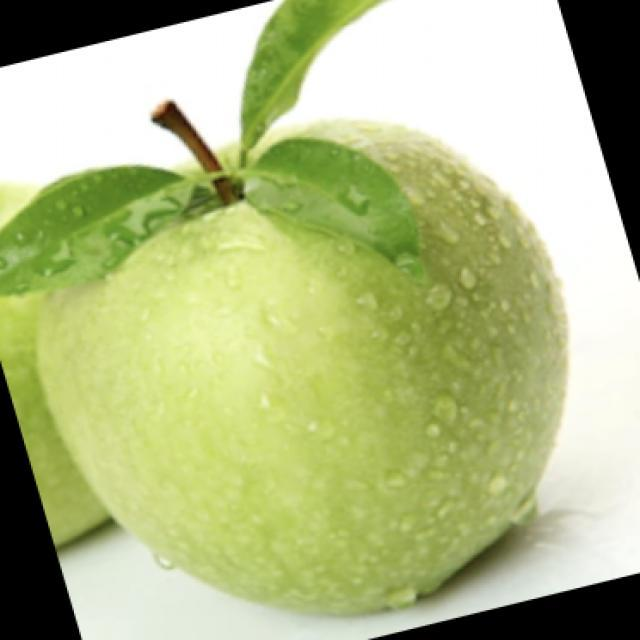Fresh Apple: (68, 135, 555, 590)
